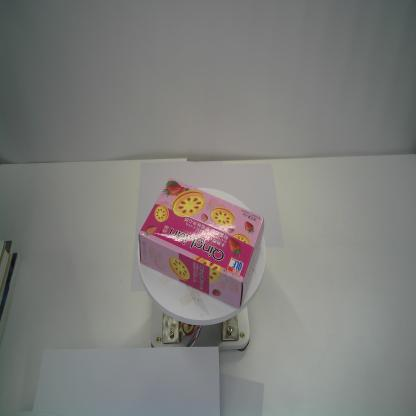Dessert: (137, 175, 265, 310)
